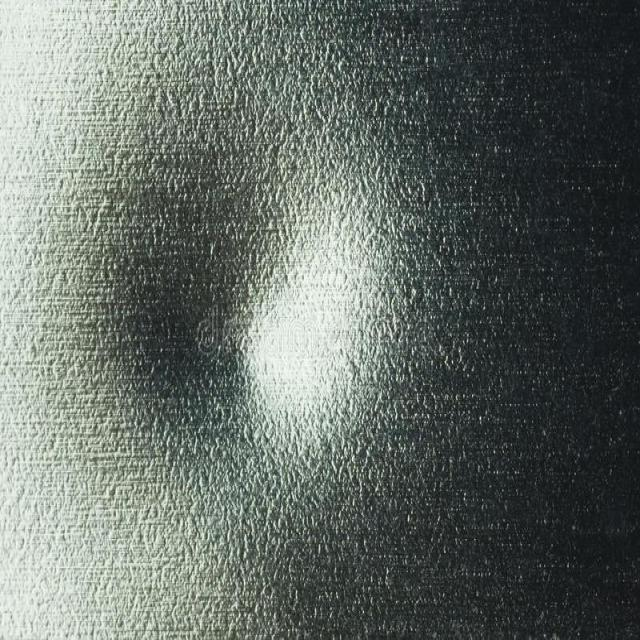dent: (107, 146, 376, 456)
